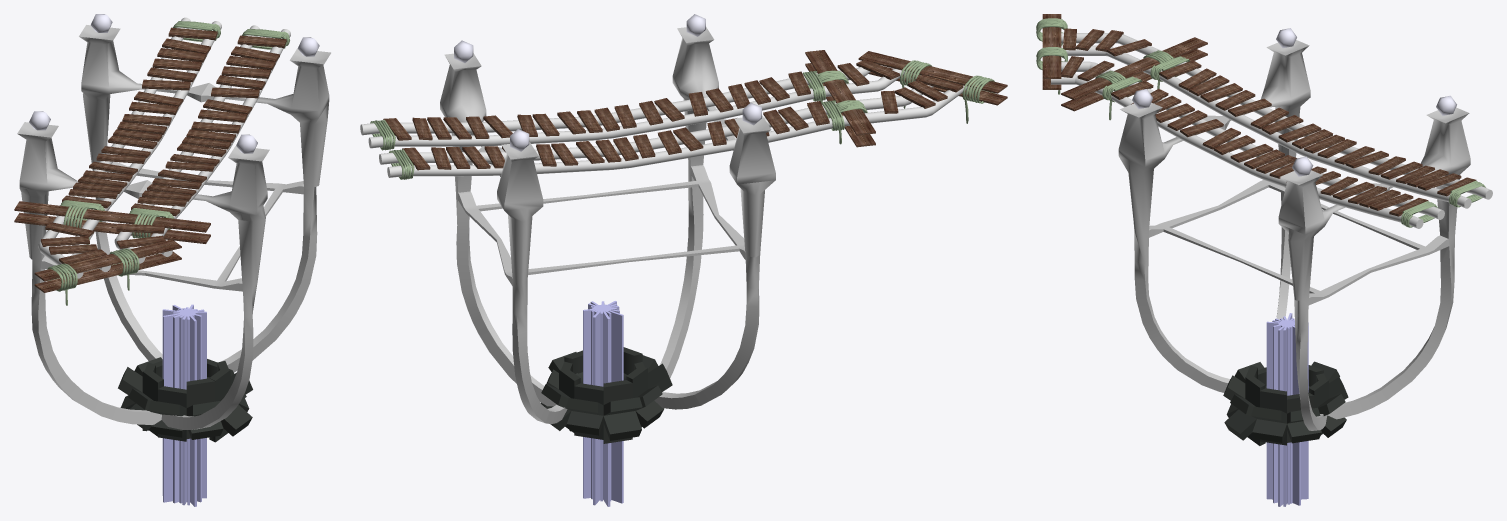
The model's file is 2_bridge_right.fbx.
3 views of the same model, side by side, from view 1: azimuth 30°, elevation 25°; view 2: azimuth 150°, elevation 25°; view 3: azimuth 270°, elevation 25° (orthographic). The views are drawn at different scales.
Parts seen in each view (by area): view 1: 2_right_base, gravityring, 2_right_LaR, 2_right_LaL, 2_right_verschlag02, 2_right_verschlag, 2_right_LaL_c, 2_right_LaR_c, 2_right_verschlag_ropes, 2_right_ropevertical, 2_right_LaL_ropes, 2_right_LaR_ropes; view 2: 2_right_base, gravityring, 2_right_LaR, 2_right_LaL, 2_right_LaL_c, 2_right_verschlag02, 2_right_verschlag, 2_right_LaR_c, 2_right_verschlag_ropes, 2_right_LaL_ropes, 2_right_LaR_ropes; view 3: 2_right_base, gravityring, 2_right_LaL, 2_right_LaR, 2_right_LaL_c, 2_right_verschlag02, 2_right_verschlag, 2_right_LaR_c, 2_right_LaR_ropes, 2_right_LaL_ropes, 2_right_verschlag_ropes, 2_right_ropevertical.
Boxes of the visible parts, box(x1,y1,x2,y2) form: 2_right_base: box(17, 14, 330, 429); gravityring: box(118, 304, 252, 506); 2_right_LaR: box(131, 25, 290, 229); 2_right_LaL: box(62, 17, 221, 221); 2_right_verschlag02: box(14, 201, 210, 243); 2_right_verschlag: box(34, 239, 181, 292); 2_right_LaL_c: box(38, 215, 110, 278); 2_right_LaR_c: box(114, 223, 172, 263); 2_right_verschlag_ropes: box(47, 248, 139, 305); 2_right_ropevertical: box(63, 205, 158, 254); 2_right_LaL_ropes: box(60, 21, 220, 221); 2_right_LaR_ropes: box(129, 29, 289, 229); 2_right_base: box(440, 14, 775, 424); gravityring: box(541, 301, 672, 506); 2_right_LaR: box(360, 71, 831, 148); 2_right_LaL: box(379, 101, 849, 177); 2_right_LaL_c: box(857, 74, 967, 123); 2_right_verschlag02: box(805, 50, 875, 147); 2_right_verschlag: box(858, 51, 1007, 105); 2_right_LaR_c: box(837, 59, 904, 93); 2_right_verschlag_ropes: box(899, 60, 994, 123); 2_right_LaL_ropes: box(389, 100, 844, 179); 2_right_LaR_ropes: box(370, 71, 825, 150); 2_right_base: box(1118, 28, 1470, 430); gravityring: box(1223, 313, 1348, 506); 2_right_LaL: box(1144, 60, 1492, 208); 2_right_LaR: box(1096, 80, 1444, 228); 2_right_LaL_c: box(1061, 28, 1161, 72); 2_right_verschlag02: box(1061, 37, 1207, 111); 2_right_verschlag: box(1042, 14, 1061, 89); 2_right_LaR_c: box(1051, 56, 1114, 92); 2_right_LaR_ropes: box(1102, 76, 1437, 227); 2_right_LaL_ropes: box(1150, 56, 1485, 207); 2_right_verschlag_ropes: box(1036, 18, 1067, 94); 2_right_ropevertical: box(1095, 50, 1175, 120).
Size of the model in its own units: 129 by 117 by 121.
Materials: 7 (1 with a texture image).
